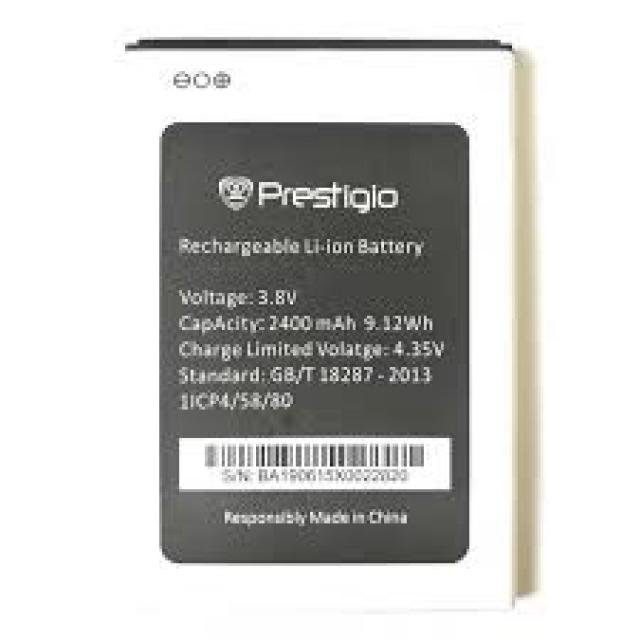non-organic waste: (121, 38, 513, 615)
